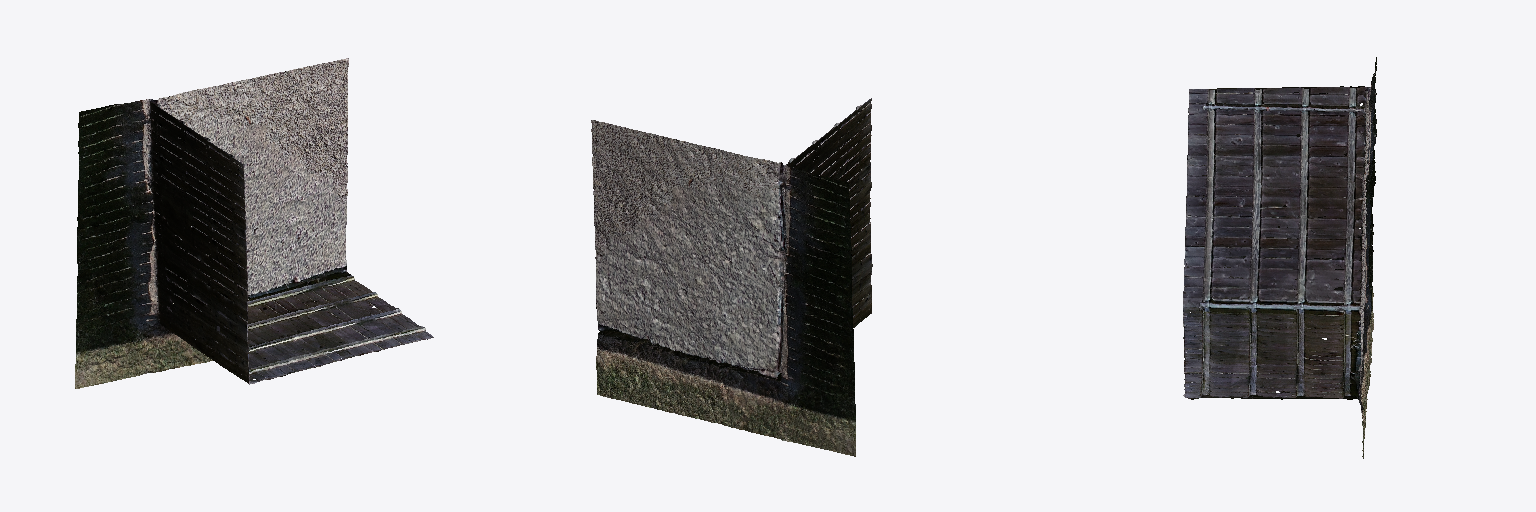
3 renders of one model, left to right at view 1: azimuth 30°, elevation 25°; view 2: azimuth 150°, elevation 25°; view 3: azimuth 270°, elevation 25°, orthographic.
Bounding box in the file's own units: 3.94 × 3.92 × 2.47.
Materials: 2 (1 with a texture image).